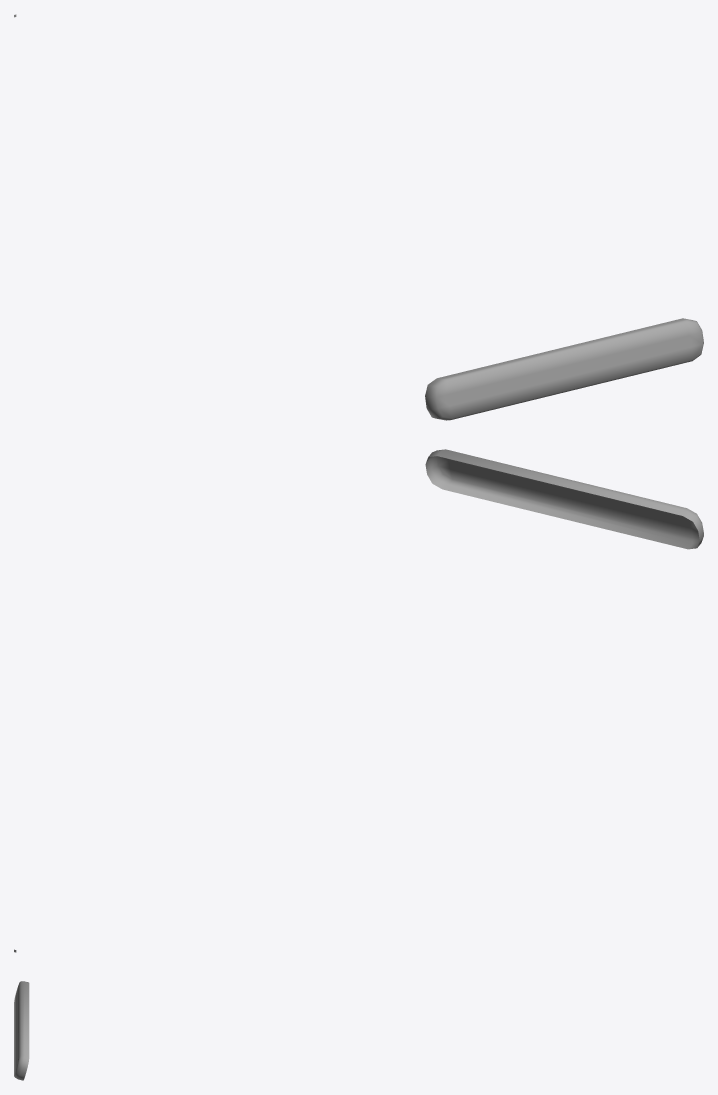
Rendered from AlarmClockButton_21_AlarmClockButton_21_1_GeomSubset_2.obj.
3 renders of one model, top to bottom at view 1: azimuth 30°, elevation 25°; view 2: azimuth 150°, elevation 25°; view 3: azimuth 270°, elevation 25°, orthographic. The views are drawn at different scales.
Visible parts, largest first — view 1: AlarmClockButton_21_AlarmClockButton_21_1_GeomSubset_2; view 2: AlarmClockButton_21_AlarmClockButton_21_1_GeomSubset_2; view 3: AlarmClockButton_21_AlarmClockButton_21_1_GeomSubset_2.
Part boxes in pixels (left/top/right/bottom): AlarmClockButton_21_AlarmClockButton_21_1_GeomSubset_2: left=14, top=14, right=703, bottom=420; AlarmClockButton_21_AlarmClockButton_21_1_GeomSubset_2: left=14, top=449, right=703, bottom=952; AlarmClockButton_21_AlarmClockButton_21_1_GeomSubset_2: left=14, top=981, right=29, bottom=1080.
Size of the model in its own units: 0.1168 by 0.0289 by 0.4129.
